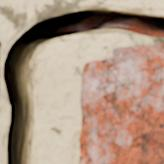brick: (80, 44, 163, 163)
crack: (2, 0, 163, 163)
